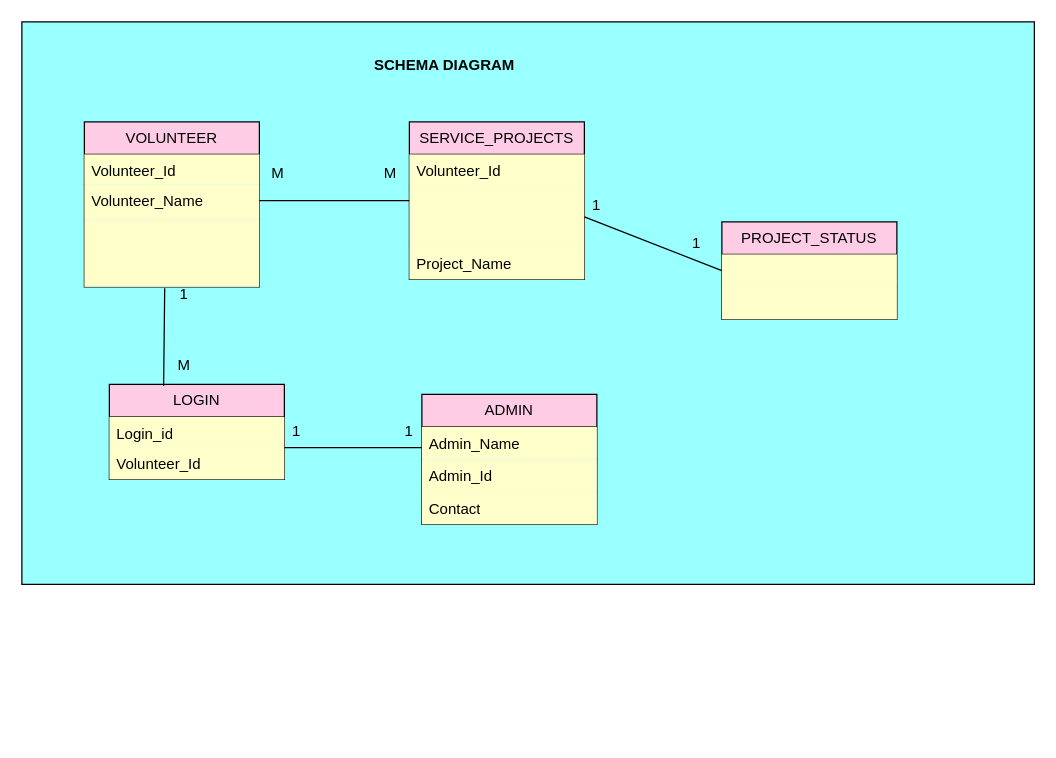
Image size: 1056x758. Some labels were removed from this diagram. Each missing label, with the centre of its shape:
Address Contact: the point at 171,252
Project_Id: the point at 808,270
Project_Id Project_Des: the point at 496,216
Status: the point at 808,302
